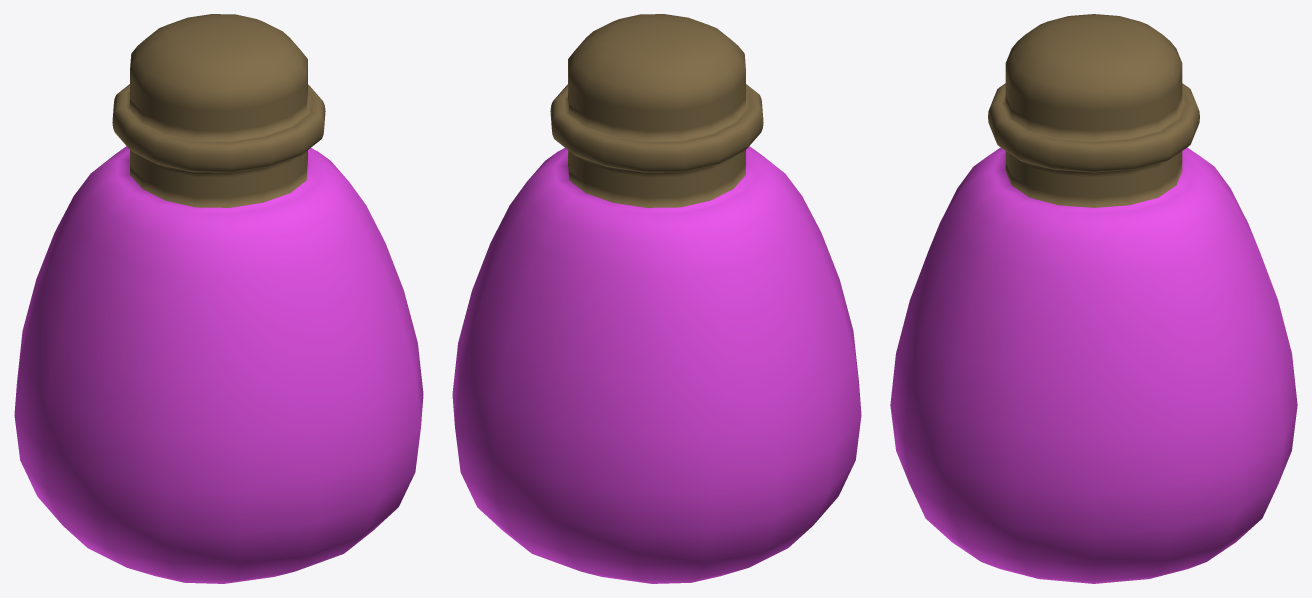
File: Potion.fbx
3 renders of one model, left to right at view 1: azimuth 30°, elevation 25°; view 2: azimuth 150°, elevation 25°; view 3: azimuth 270°, elevation 25°, orthographic.
Parts seen in each view (by area): view 1: Cube; view 2: Cube; view 3: Cube.
Part boxes in pixels (x1,y1,x2,y2): Cube: (14, 14, 423, 583); Cube: (452, 14, 861, 583); Cube: (890, 14, 1297, 583).
Bounding box in the file's own units: 42.9 × 60.62 × 42.9.
